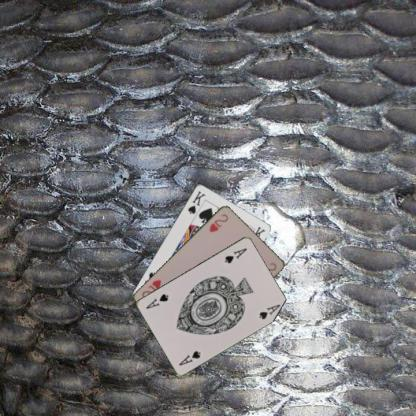2h: (207, 211, 229, 233)
As: (222, 245, 248, 265), (176, 348, 202, 367)
Ks: (185, 188, 207, 215)
